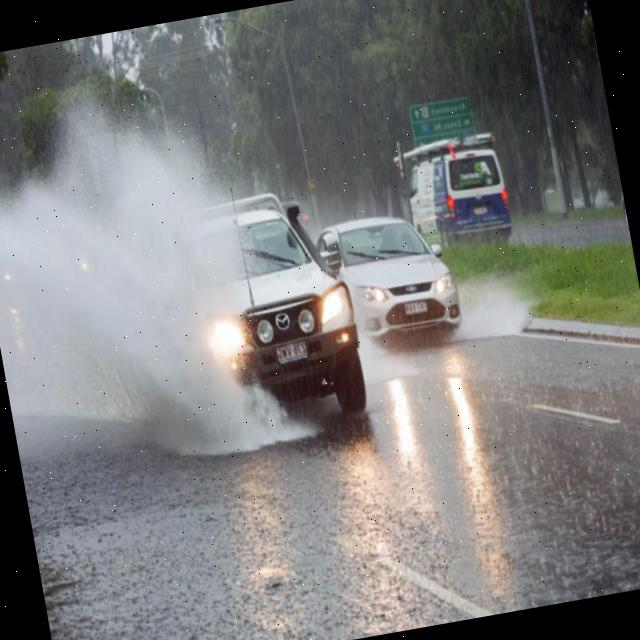car: (177, 180, 375, 441), (323, 204, 470, 360), (398, 130, 514, 253)
